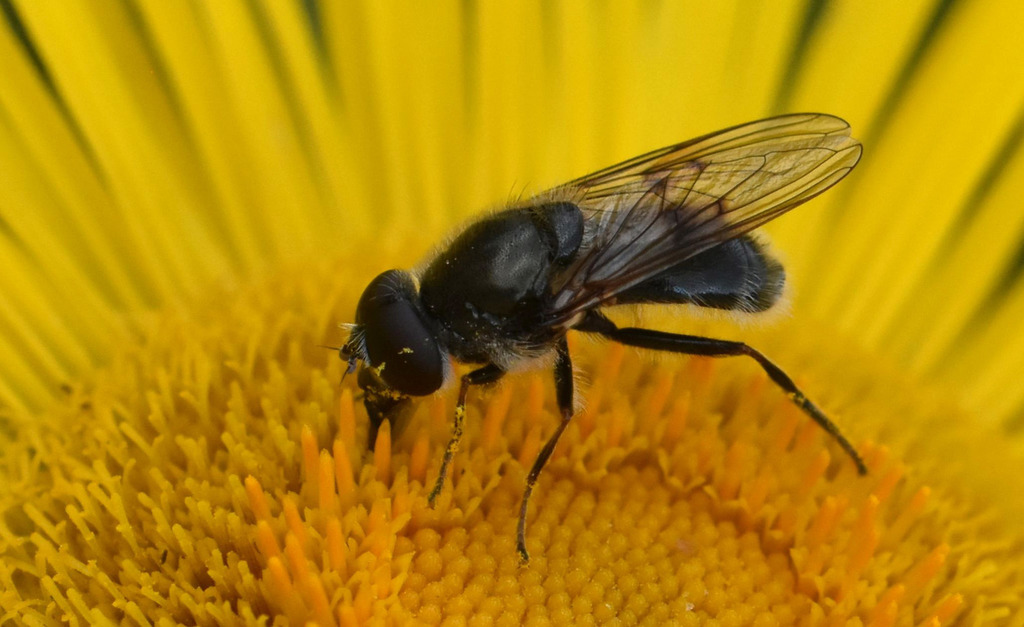not_bumblebee: (321, 112, 869, 566)
